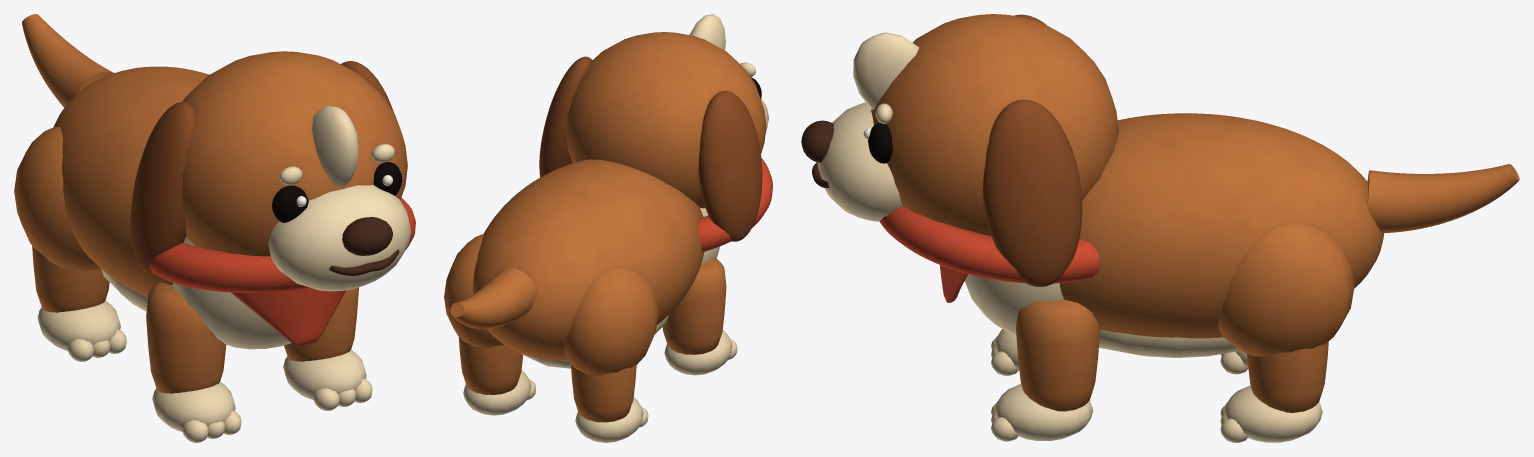
Rendered from dog.glb.
3 views of the same model, side by side, from view 1: azimuth 30°, elevation 25°; view 2: azimuth 150°, elevation 25°; view 3: azimuth 270°, elevation 25° (orthographic). The views are drawn at different scales.
Visible parts, largest first — view 1: Dog_Head, Dog_Body, Dog_Muzzle, Dog_FloppyEar_-1, Leg_FL, Haunch_BL, Dog_BandanaCollar, Dog_BandanaFront, Dog_Tail, Dog_ChestCream, Leg_BL, Dog_ForeheadBlaze (+13 smaller); view 2: Dog_Body, Dog_Head, Haunch_BL, Dog_FloppyEar_-1, Leg_FL, Dog_Tail, Leg_BL, Leg_BR, Dog_FloppyEar_1, Haunch_BR, Paw_FL, Paw_BL (+4 smaller); view 3: Dog_Body, Dog_Head, Dog_FloppyEar_1, Haunch_BR, Leg_FR, Dog_Tail, Dog_BandanaCollar, Dog_Muzzle, Leg_BR, Paw_BR, Paw_FR, Dog_ForeheadBlaze (+4 smaller).
Part boxes in pixels (x1,y1,x2,y2): Dog_Head: (182,51,407,256); Dog_Body: (53,66,209,296); Dog_Muzzle: (268,185,410,291); Dog_FloppyEar_-1: (130,102,195,273); Leg_FL: (146,282,226,393); Haunch_BL: (14,127,100,271); Dog_BandanaCollar: (149,197,415,292); Dog_BandanaFront: (230,288,346,346); Dog_Tail: (22,14,113,107); Dog_ChestCream: (173,237,291,349); Leg_BL: (32,245,109,312); Dog_ForeheadBlaze: (312,105,358,186); Dog_Body: (473,159,704,360); Dog_Head: (566,32,766,208); Haunch_BL: (563,267,658,375); Dog_FloppyEar_-1: (698,91,762,241); Leg_FL: (662,257,726,354); Dog_Tail: (450,268,536,328); Leg_BL: (571,364,636,422); Leg_BR: (458,337,523,394); Dog_FloppyEar_1: (539,56,592,177); Haunch_BR: (444,233,503,347); Paw_FL: (664,330,732,375); Paw_BL: (575,397,643,442); Dog_Body: (1059,113,1383,338); Dog_Head: (871,14,1118,235); Dog_FloppyEar_1: (983,99,1082,286); Haunch_BR: (1218,222,1354,356); Leg_FR: (1016,299,1100,411); Dog_Tail: (1367,164,1519,233); Dog_BandanaCollar: (879,206,1099,283); Dog_Muzzle: (817,102,902,221); Leg_BR: (1247,342,1328,412); Paw_BR: (1224,385,1322,442); Paw_FR: (994,384,1093,440); Dog_ForeheadBlaze: (853,32,919,109).
Bounding box in the file's own units: 0.2732 × 0.376 × 0.65.
3 materials, 1 textured.
